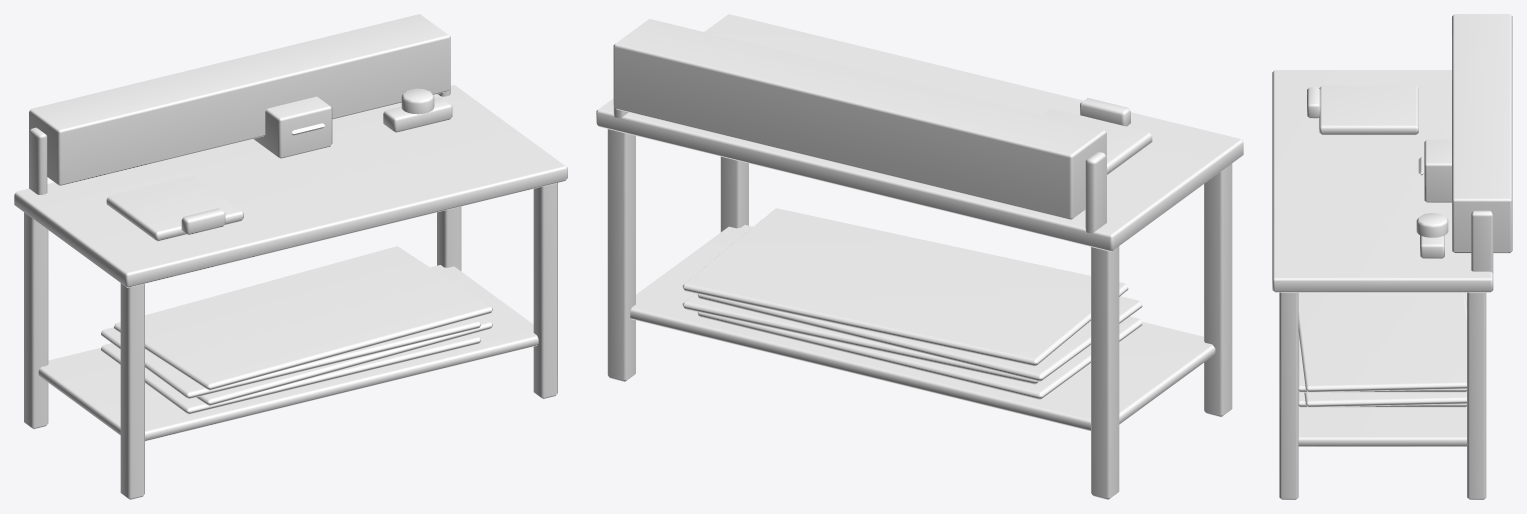
File: packing_table.glb
The picture shows the model from 3 angles, left to right: view 1: azimuth 30°, elevation 25°; view 2: azimuth 150°, elevation 25°; view 3: azimuth 270°, elevation 25°; orthographic projection. The views are drawn at different scales.
Visible parts, largest first — view 1: PackingTable; view 2: PackingTable; view 3: PackingTable.
Boxes of the visible parts, x1,y1,x2,y2 form: PackingTable: (14,14,567,499); PackingTable: (596,14,1243,499); PackingTable: (1272,14,1512,499).
Size of the model in its own units: 1.8 by 1.17 by 0.87.
Materials: 1 (1 with a texture image).
